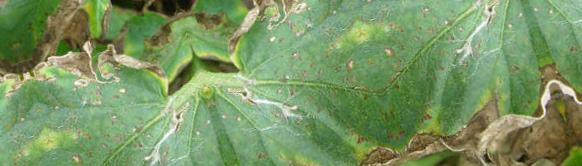Tomato leaf bacterial spot: (178, 0, 421, 166)
